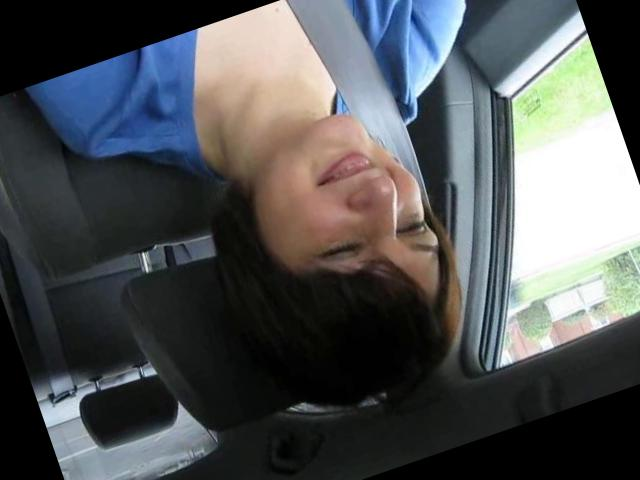eye_closed: (310, 229, 371, 274), (390, 211, 430, 245)
face: (236, 92, 454, 320)
